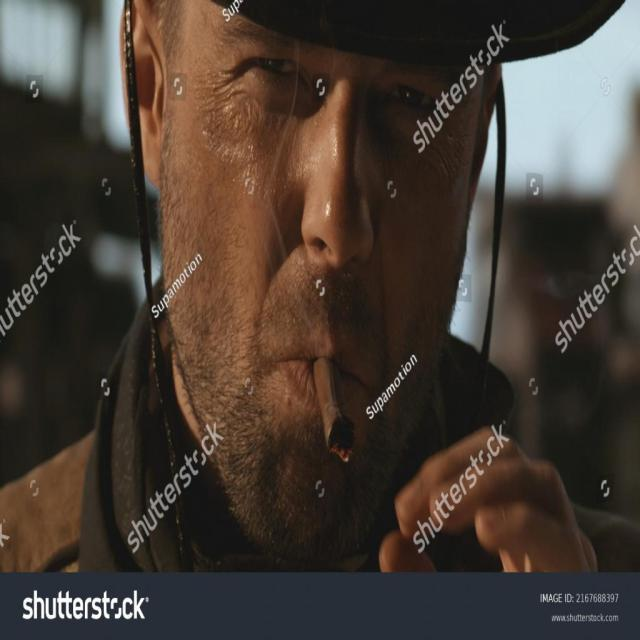smoking: (311, 353, 361, 465)
